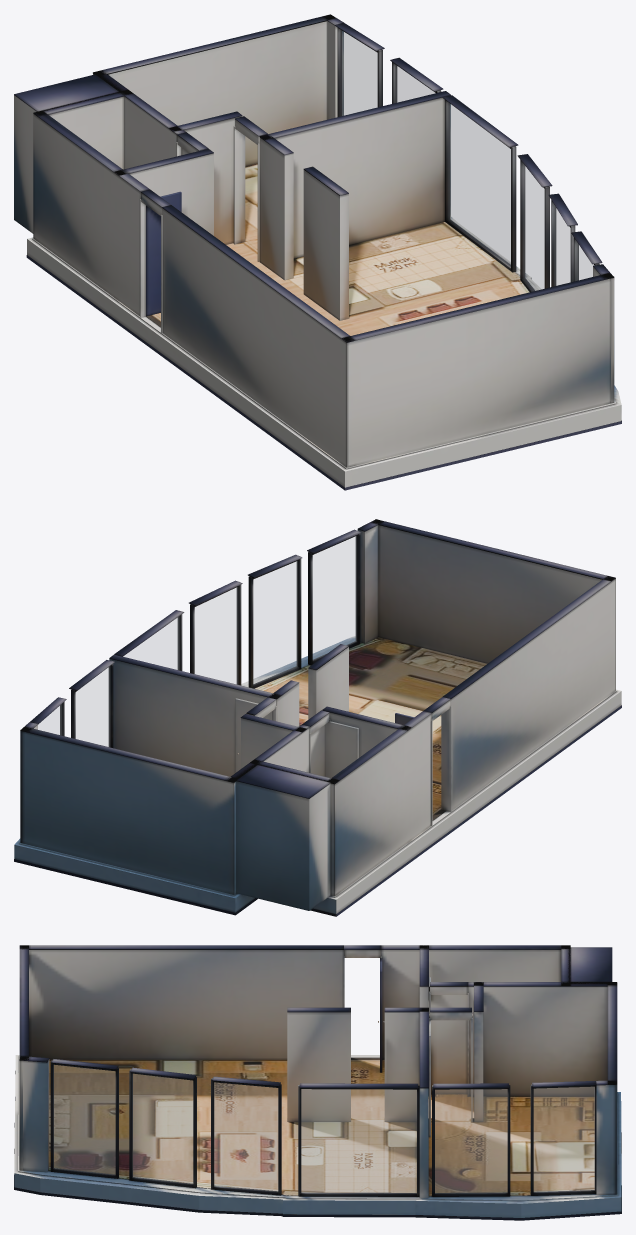
3 renders of one model, top to bottom at view 1: azimuth 30°, elevation 25°; view 2: azimuth 150°, elevation 25°; view 3: azimuth 270°, elevation 25°, orthographic. The views are drawn at different scales.
Visible parts, largest first — view 1: plan, glass2_m, glass0_m, glass3_m, glass4_m, glass1_m; view 2: plan, glass4_m, glass5_m, glass3_m, glass1_m, glass2_m; view 3: plan, glass2_m, glass1_m, glass3_m, glass5_m, glass0_m, glass4_m.
Part boxes in pixels (x1,y1,x2,y2): plan: (14, 14, 621, 490); glass2_m: (448, 103, 510, 266); glass0_m: (340, 30, 377, 115); glass3_m: (523, 164, 544, 290); glass4_m: (554, 205, 570, 285); glass1_m: (395, 65, 434, 102); plan: (14, 519, 621, 916); glass4_m: (253, 561, 297, 684); glass5_m: (313, 536, 356, 660); glass3_m: (195, 587, 237, 684); glass1_m: (76, 667, 109, 746); glass2_m: (123, 616, 179, 669); plan: (14, 945, 621, 1220); glass2_m: (301, 1089, 416, 1193); glass1_m: (435, 1089, 507, 1193); glass3_m: (214, 1082, 277, 1191); glass5_m: (53, 1065, 115, 1174); glass0_m: (534, 1087, 594, 1192); glass4_m: (132, 1074, 192, 1184).
Bounding box in the file's own units: 6.56 × 2.62 × 11.29.
Materials: 2 (1 with a texture image).
